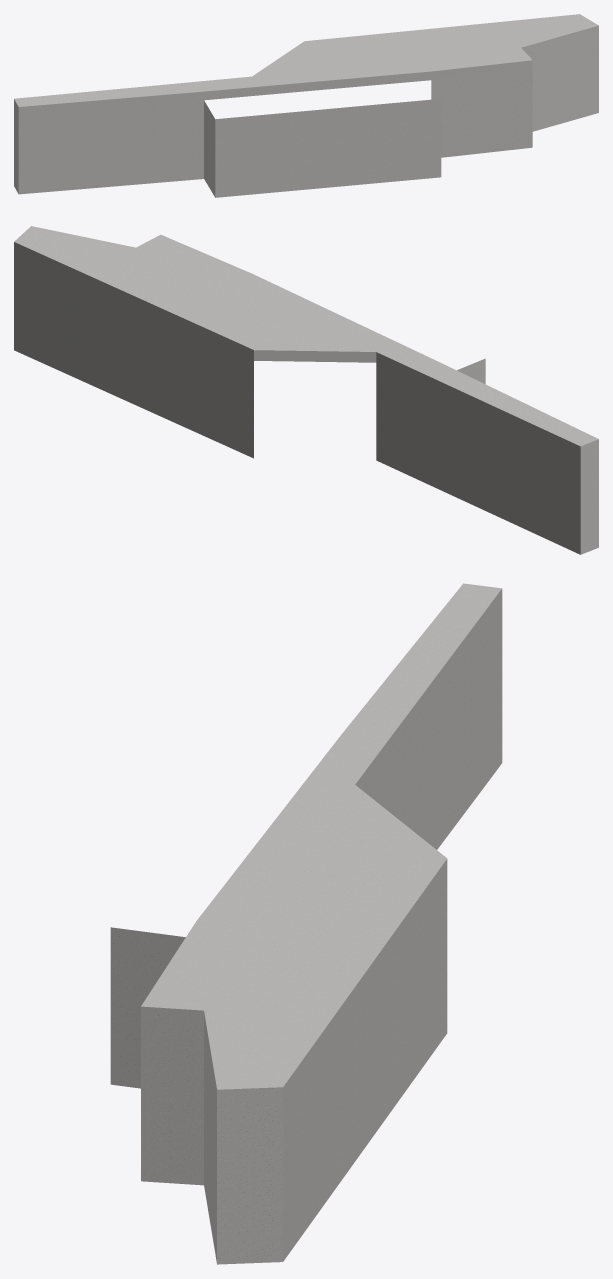
The model's file is kd_stage_136599_2_0_bounded.glb.
3 renders of one model, top to bottom at view 1: azimuth 30°, elevation 25°; view 2: azimuth 150°, elevation 25°; view 3: azimuth 270°, elevation 25°, orthographic. The views are drawn at different scales.
Visible parts, largest first — view 1: kd_stage_136599_2_0_bounded; view 2: kd_stage_136599_2_0_bounded; view 3: kd_stage_136599_2_0_bounded.
Boxes of the visible parts, <box> form: kd_stage_136599_2_0_bounded: <box>14,14,598,197</box>; kd_stage_136599_2_0_bounded: <box>14,226,598,554</box>; kd_stage_136599_2_0_bounded: <box>110,583,502,1264</box>.
Bounding box in the file's own units: 206 × 33.17 × 67.33.
1 material, 1 textured.
